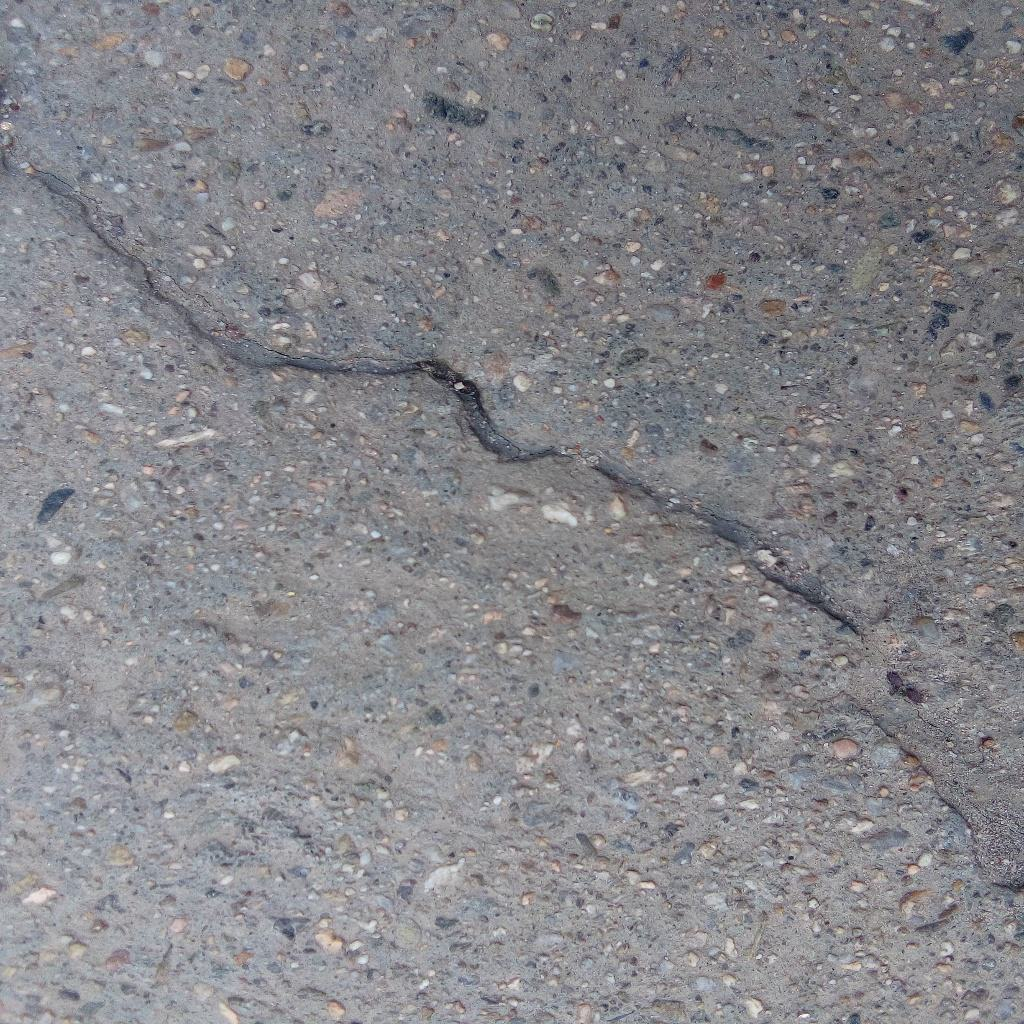Crack: (1, 160, 868, 639)
Spalling: (841, 639, 1024, 894)
